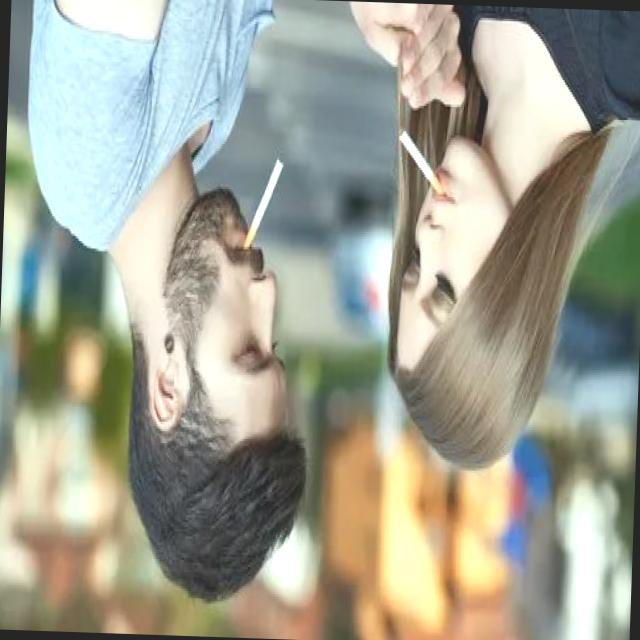smoke: (241, 152, 287, 260), (392, 121, 450, 199)
